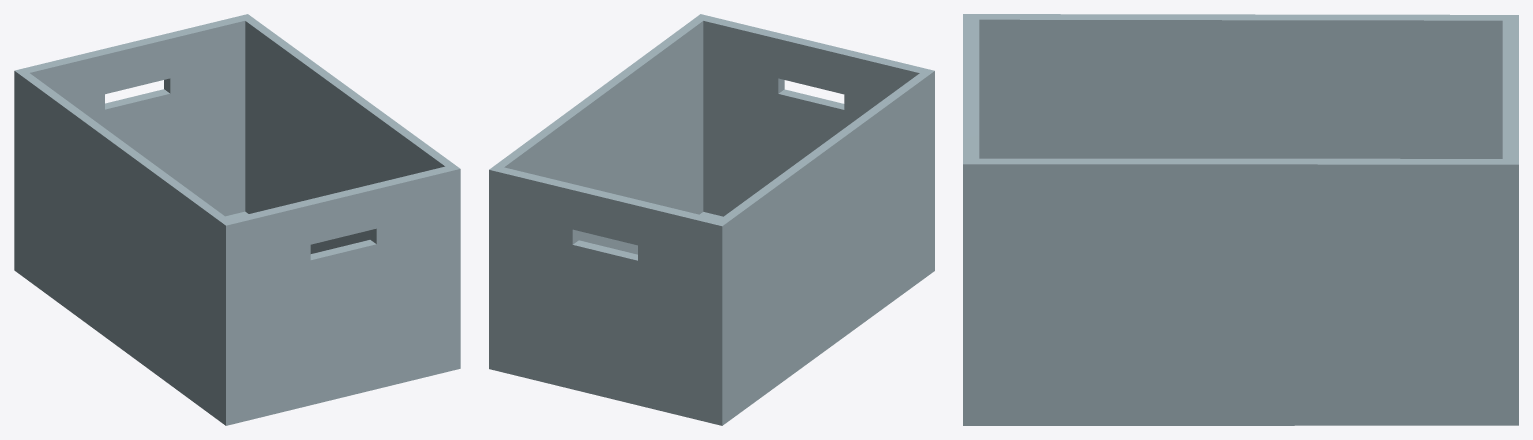
The model's file is warehouse_035.glb.
3 renders of one model, left to right at view 1: azimuth 30°, elevation 25°; view 2: azimuth 150°, elevation 25°; view 3: azimuth 270°, elevation 25°, orthographic. The views are drawn at different scales.
Parts seen in each view (by area): view 1: warehouse_035; view 2: warehouse_035; view 3: warehouse_035.
Part boxes in pixels (x1,y1,x2,y2): warehouse_035: (14,14,460,425); warehouse_035: (489,14,934,425); warehouse_035: (963,14,1518,425).
Bounding box in the file's own units: 0.419 × 0.3418 × 0.6566.
Materials: 1 (1 with a texture image).
